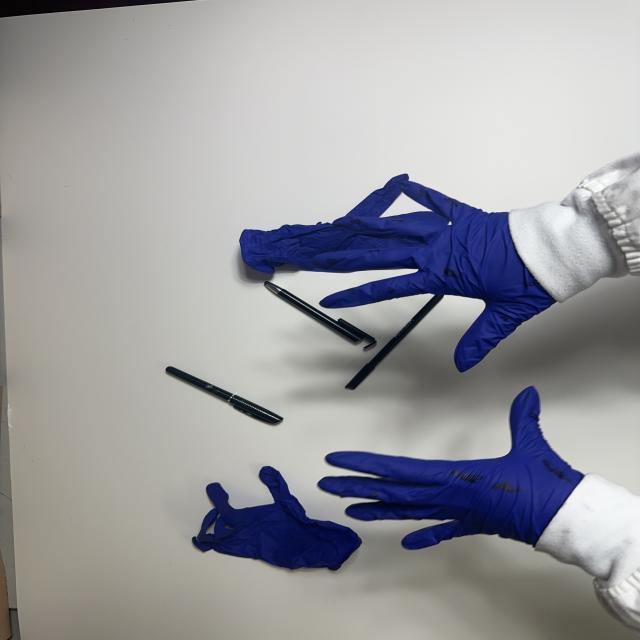gloves_contaminated: (312, 180, 555, 372), (318, 387, 584, 549)
